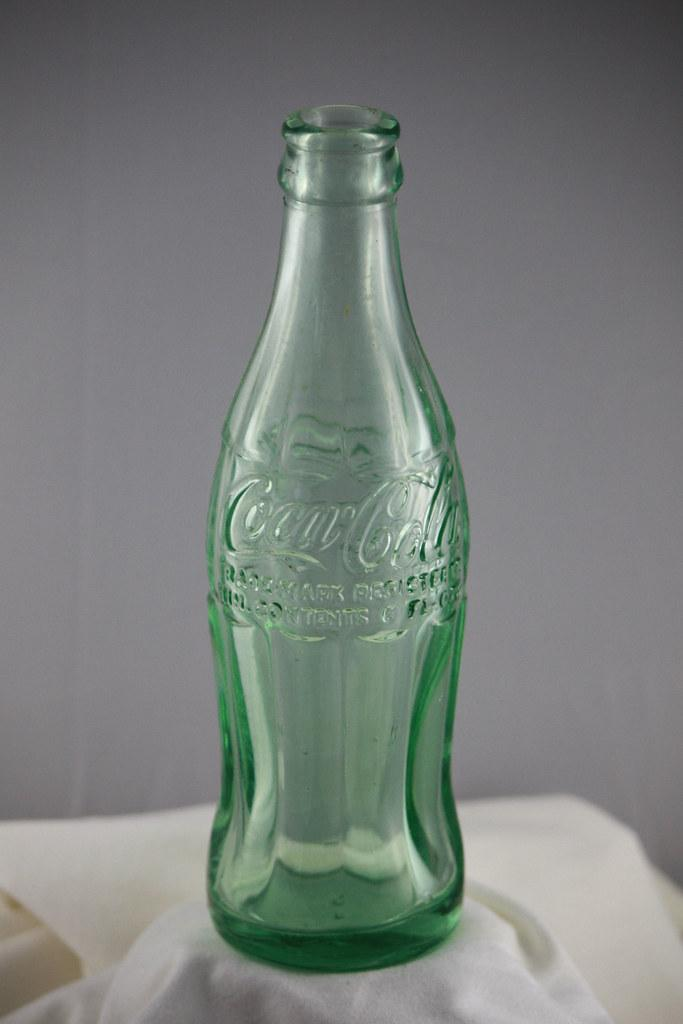bottle: (205, 103, 471, 974)
